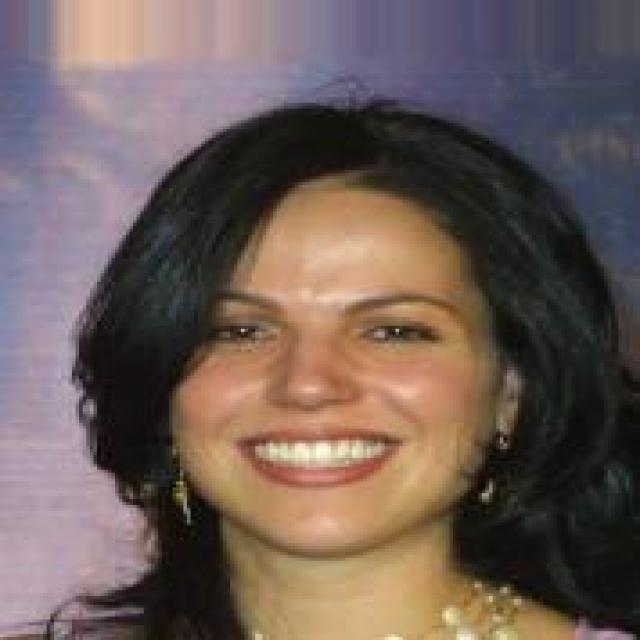nomask: (169, 109, 547, 534)
